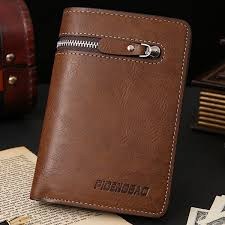monedero: (29, 6, 190, 217)
